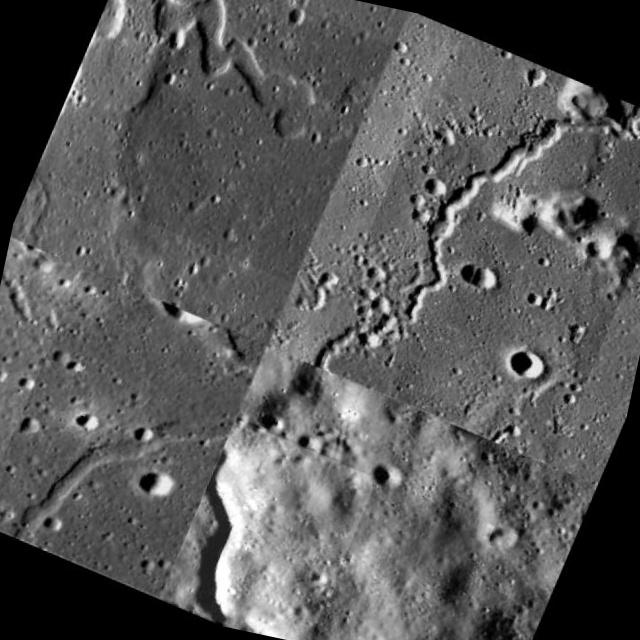crater: (322, 8, 640, 414), (10, 0, 334, 290), (26, 318, 272, 625), (221, 435, 409, 640)
